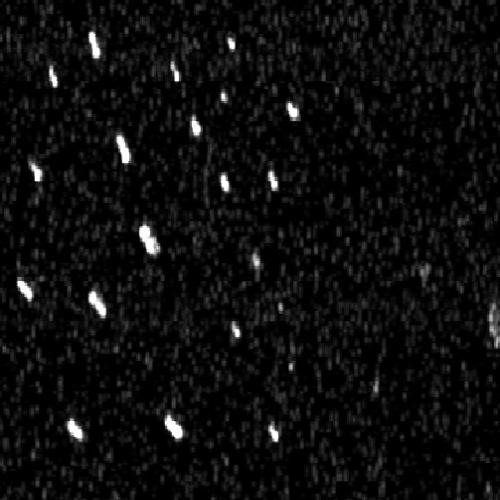ship: (137, 221, 162, 259), (162, 412, 184, 444), (87, 286, 107, 321), (115, 131, 131, 166), (28, 154, 45, 184), (15, 276, 33, 304), (67, 417, 85, 444), (88, 30, 102, 61), (285, 99, 301, 122), (169, 59, 182, 85), (190, 113, 203, 139), (47, 63, 59, 90), (266, 422, 280, 445), (267, 169, 280, 192), (229, 318, 242, 340), (219, 172, 231, 195), (226, 33, 237, 52), (252, 253, 262, 270), (221, 88, 230, 104)
